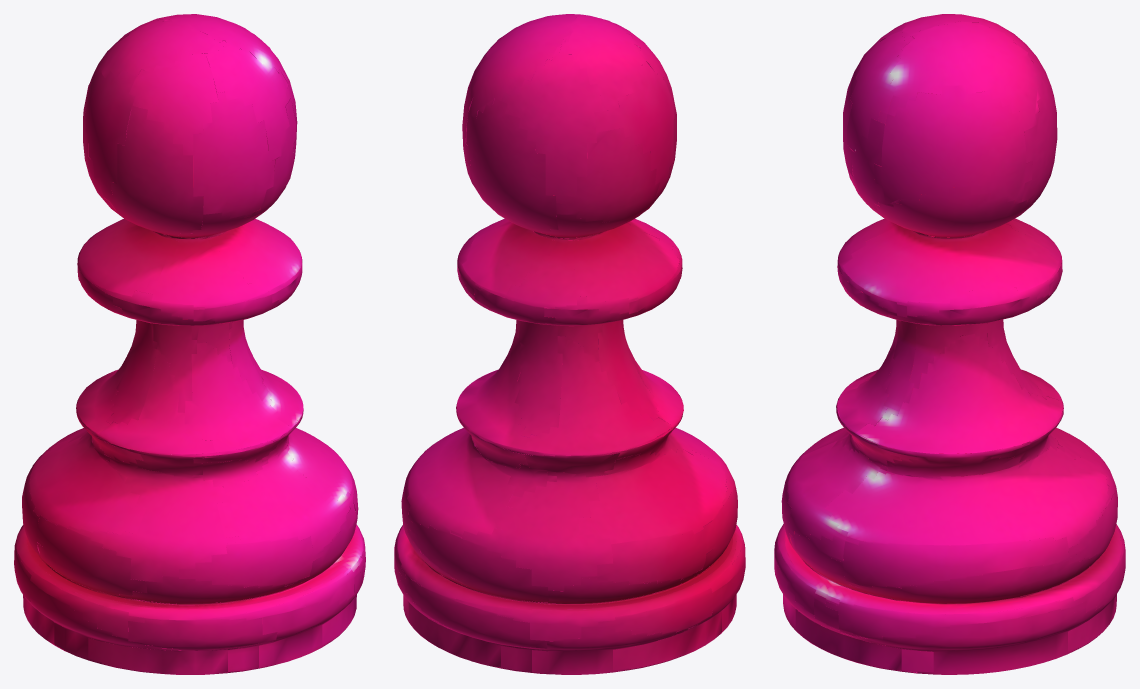
The model's file is pawn.glb.
3 views of the same model, side by side, from view 1: azimuth 30°, elevation 25°; view 2: azimuth 150°, elevation 25°; view 3: azimuth 270°, elevation 25° (orthographic).
Visible parts, largest first — view 1: Object001; view 2: Object001; view 3: Object001.
Part boxes in pixels (<box>): Object001: <box>14,14,365,674</box>; Object001: <box>394,14,745,674</box>; Object001: <box>774,14,1125,674</box>.
Bounding box in the file's own units: 3.4 × 6.2 × 3.4.
1 material, 1 textured.
